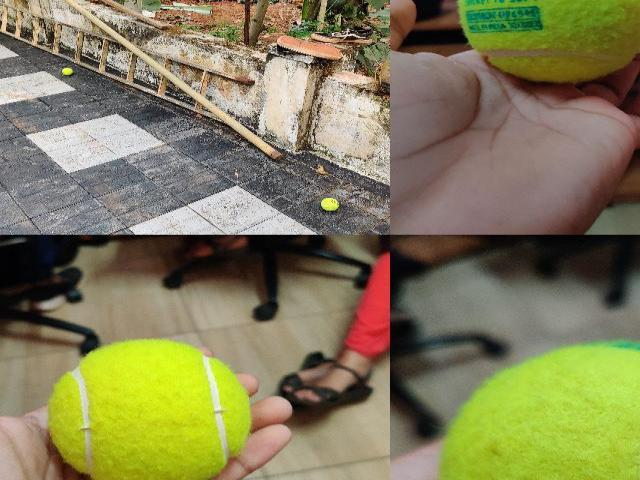tennis-ball: (49, 340, 250, 479), (442, 342, 639, 479), (458, 0, 639, 82), (320, 197, 338, 211), (62, 67, 72, 75)
